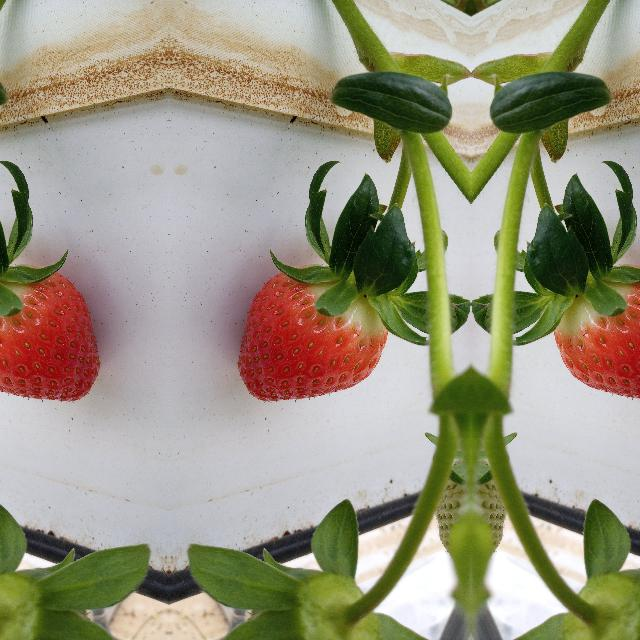Health_100: (236, 266, 388, 402), (0, 266, 99, 402), (553, 266, 640, 402)
